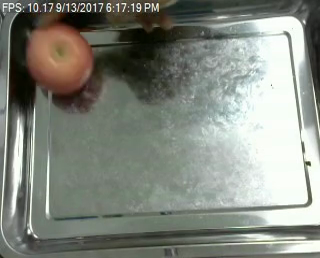Apple: (25, 22, 95, 93)
